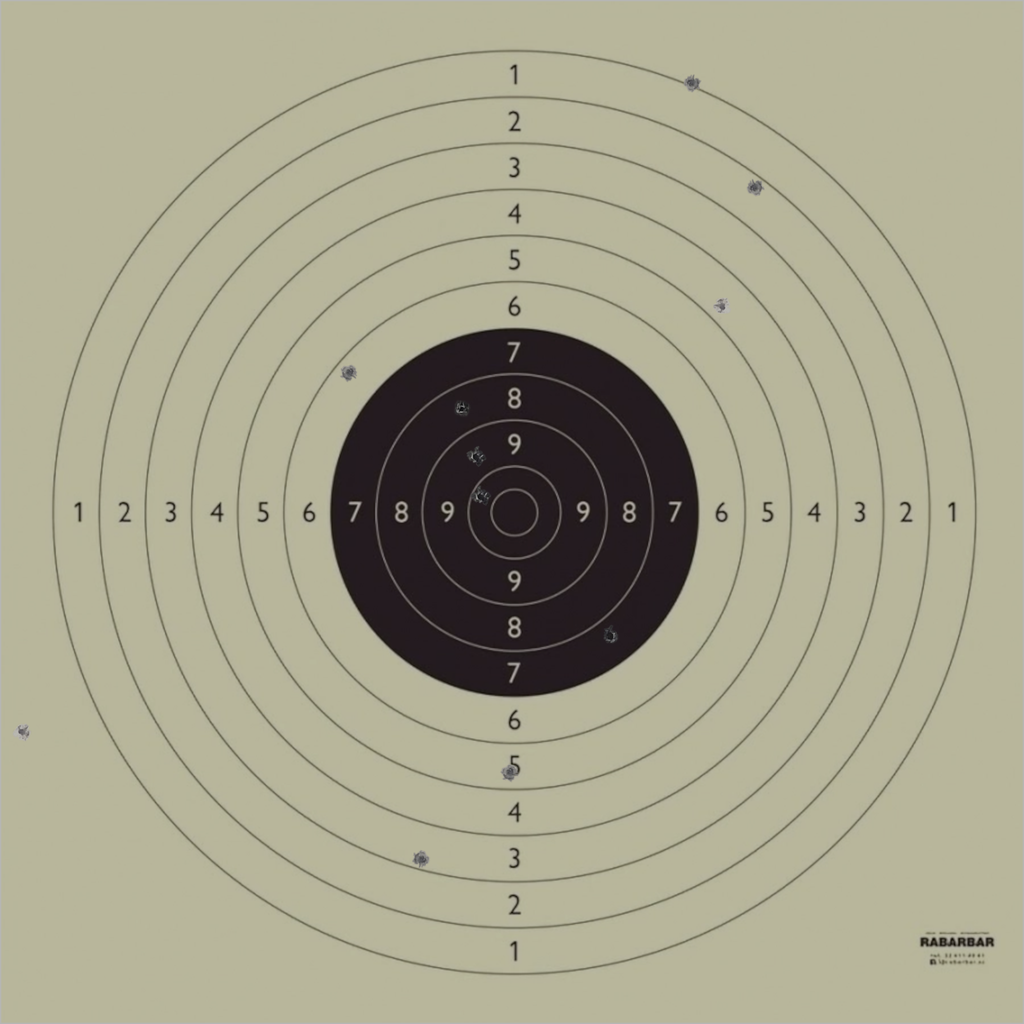0 punktow: (13, 723, 31, 741)
1 punkt: (682, 74, 701, 92)
10 punktow: (472, 488, 490, 506)
2 punkty: (745, 178, 764, 197)
3 punkty: (412, 850, 431, 869)
4 punkty: (713, 297, 731, 316)
5 punktow: (501, 763, 519, 781)
6 punktow: (340, 363, 359, 382)
7 punktow: (601, 627, 619, 645)
8 punktow: (452, 400, 471, 418)
9 punktow: (467, 448, 486, 466)
